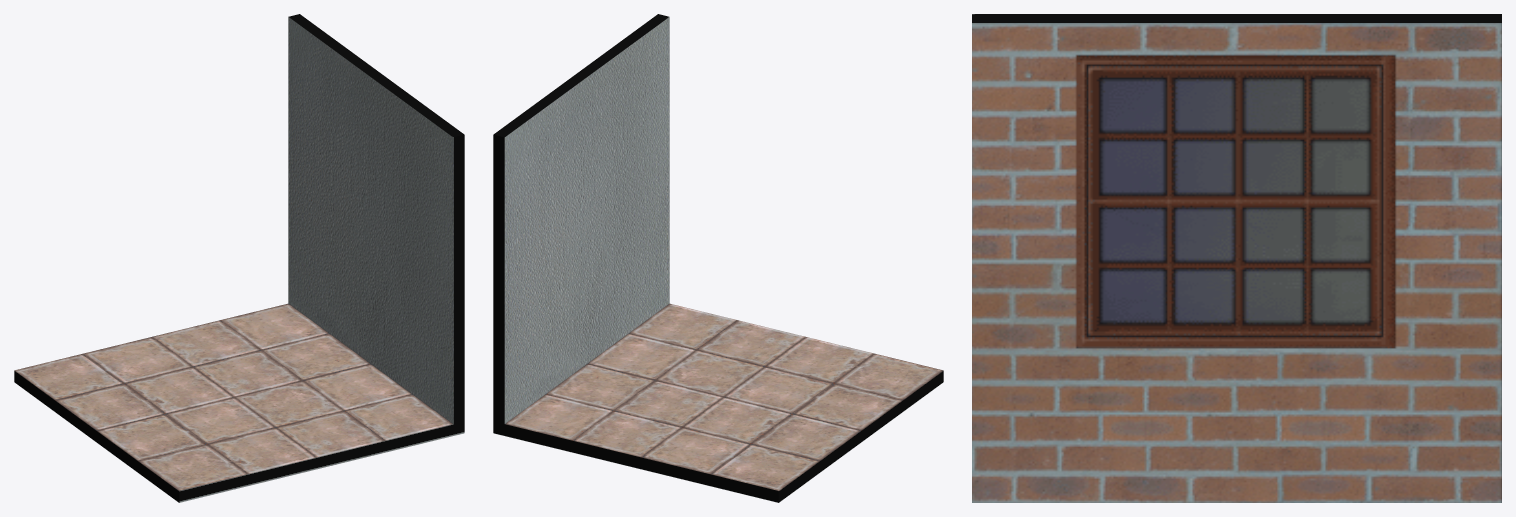
File: wallside.fbx
3 renders of one model, left to right at view 1: azimuth 30°, elevation 25°; view 2: azimuth 150°, elevation 25°; view 3: azimuth 270°, elevation 25°, orthographic. The views are drawn at different scales.
Parts seen in each view (by area): view 1: wallside; view 2: wallside; view 3: wallside.
Part boxes in pixels (x1,y1,x2,y2): wallside: (14,14,464,502); wallside: (493,14,943,502); wallside: (972,14,1501,502).
Size of the model in its own units: 2.5 by 2.5 by 2.5.
1 material, 1 textured.
